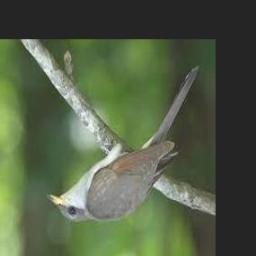Cuckoo: (48, 66, 199, 223)
